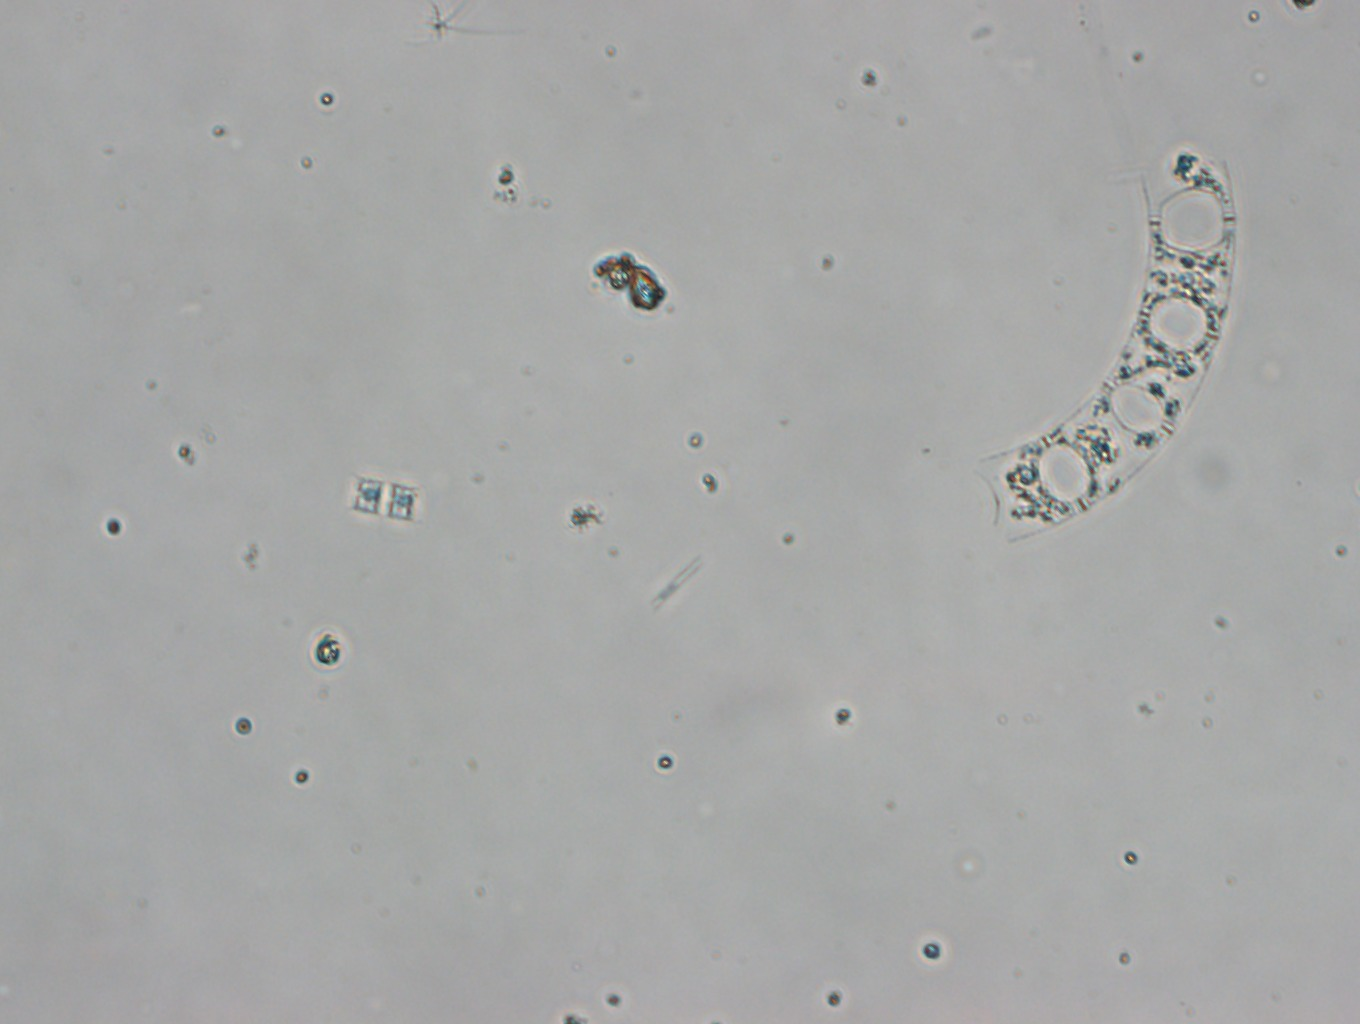eucampia: (973, 150, 1239, 543)
